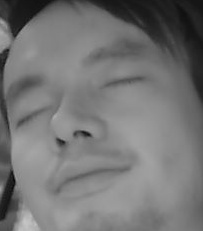blink: (100, 71, 141, 93), (14, 106, 50, 124)
mouth: (48, 153, 131, 198)
